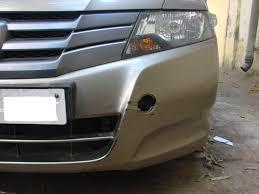front-bumper-dent: (0, 55, 218, 171)
